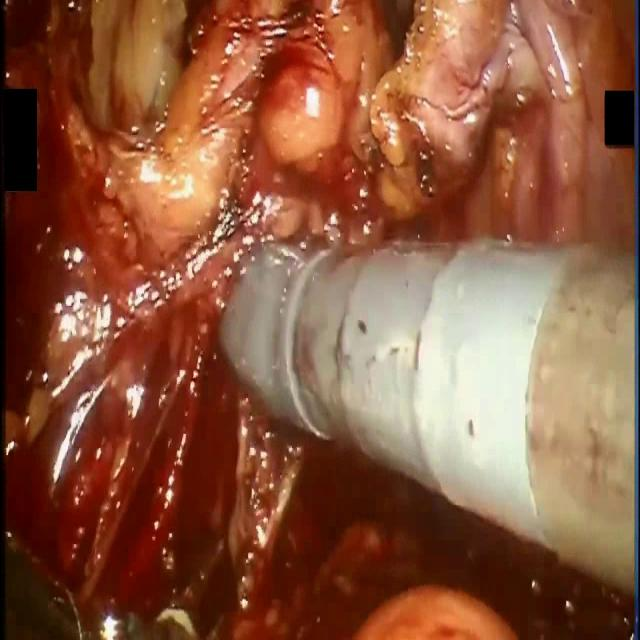surgical-area: (1, 0, 638, 639)
surgical-tool: (220, 236, 638, 604)
